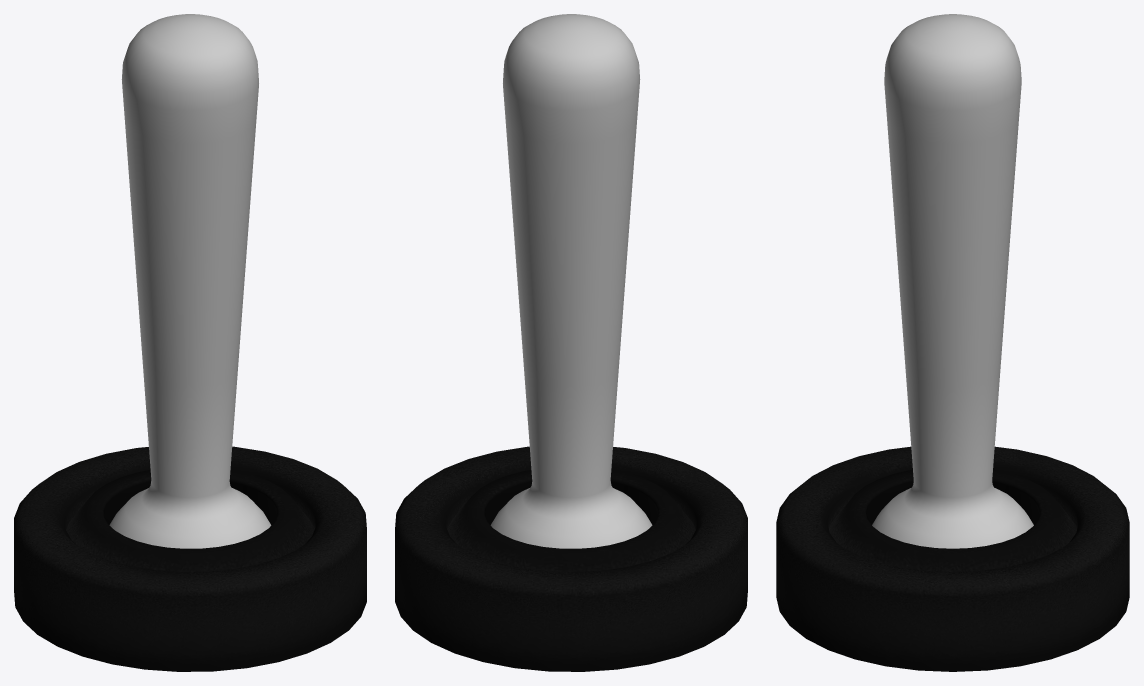
The model's file is Switch.fbx.
3 renders of one model, left to right at view 1: azimuth 30°, elevation 25°; view 2: azimuth 150°, elevation 25°; view 3: azimuth 270°, elevation 25°, orthographic.
Visible parts, largest first — view 1: Switch_Switch, Switch_Base; view 2: Switch_Switch, Switch_Base; view 3: Switch_Switch, Switch_Base.
Boxes of the visible parts, x1,y1,x2,y2 form: Switch_Switch: [109, 14, 271, 548]; Switch_Base: [14, 446, 366, 671]; Switch_Switch: [490, 14, 652, 548]; Switch_Base: [395, 446, 747, 671]; Switch_Switch: [872, 14, 1033, 548]; Switch_Base: [776, 446, 1129, 671].
Bounding box in the file's own units: 0.2 × 0.3589 × 0.2.
